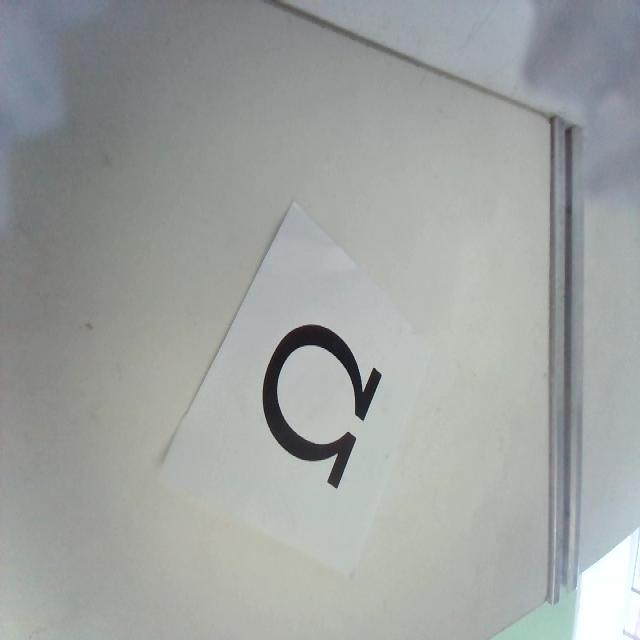OM: (261, 320, 382, 490)
